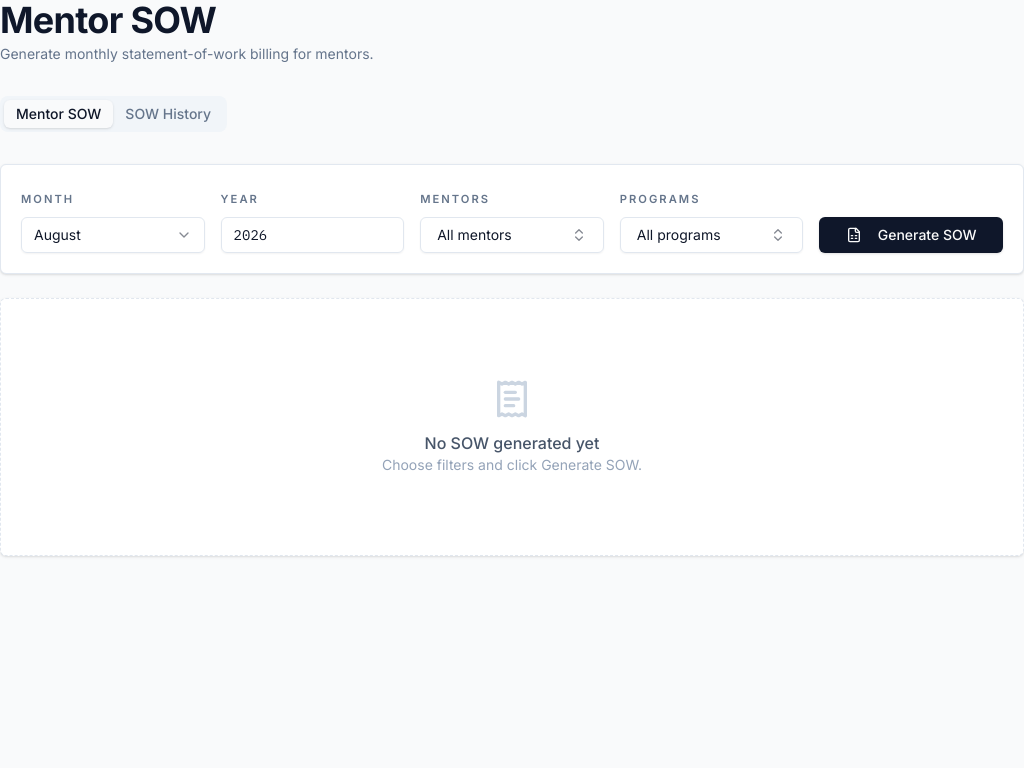
Scenario: SOW — Mentor SOW tab › schedule changes show a warning and the change list
Click the button with test id "sow-generate-btn". click: (911, 235)
box: x1=819 y1=217 x2=1003 y2=253
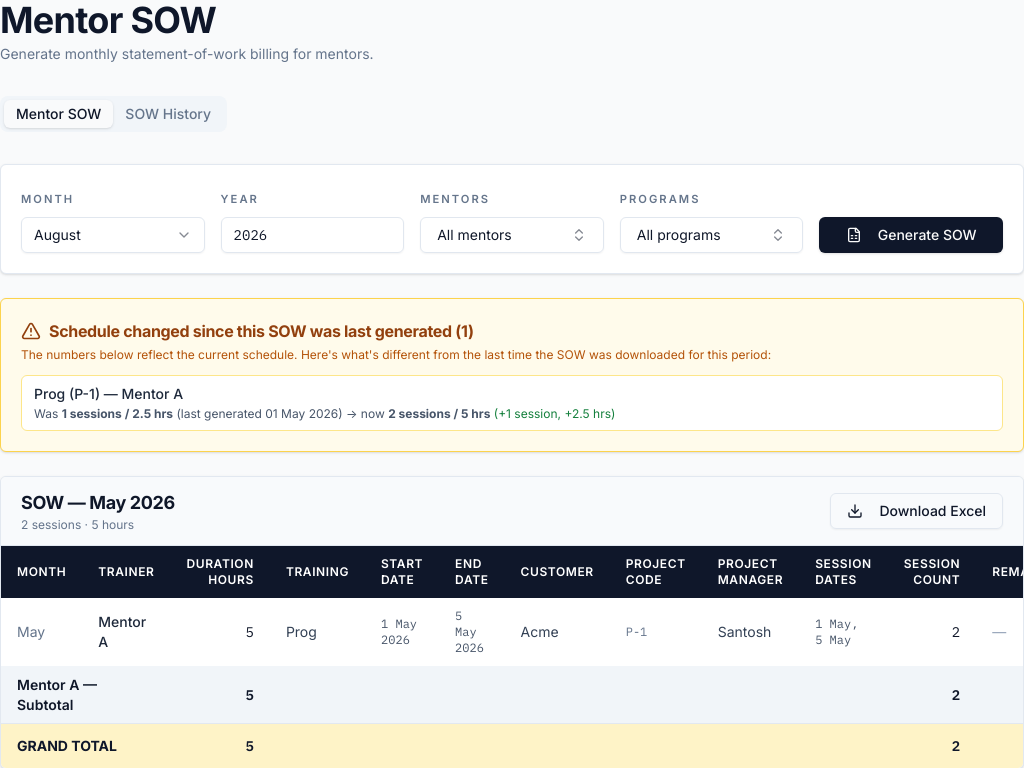
Result: the element with test id "sow-changes-alert" is shown at x1=0 y1=298 x2=1023 y2=452
Result: the list item with test id "sow-change-row" is shown at x1=21 y1=375 x2=1003 y2=431
